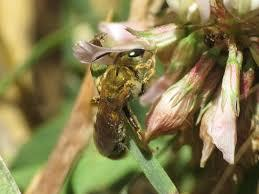Seladonia: (81, 29, 163, 175)
